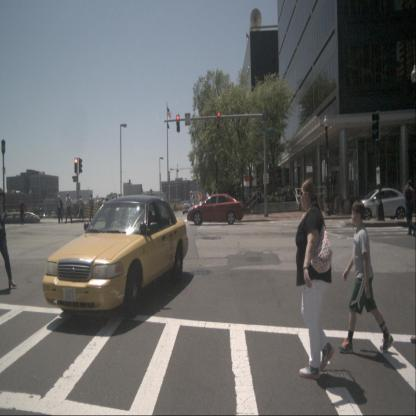human-pedestrian-adult: (296, 179, 334, 379), (0, 187, 17, 290), (404, 180, 416, 236), (65, 192, 73, 224), (19, 197, 27, 225), (88, 193, 94, 221), (57, 196, 63, 223), (77, 196, 84, 218), (331, 172, 336, 195), (281, 185, 286, 203), (192, 196, 196, 217), (190, 190, 193, 216)
vehicle-car: (42, 194, 188, 318), (186, 193, 244, 226), (355, 188, 408, 221), (182, 203, 191, 214)
